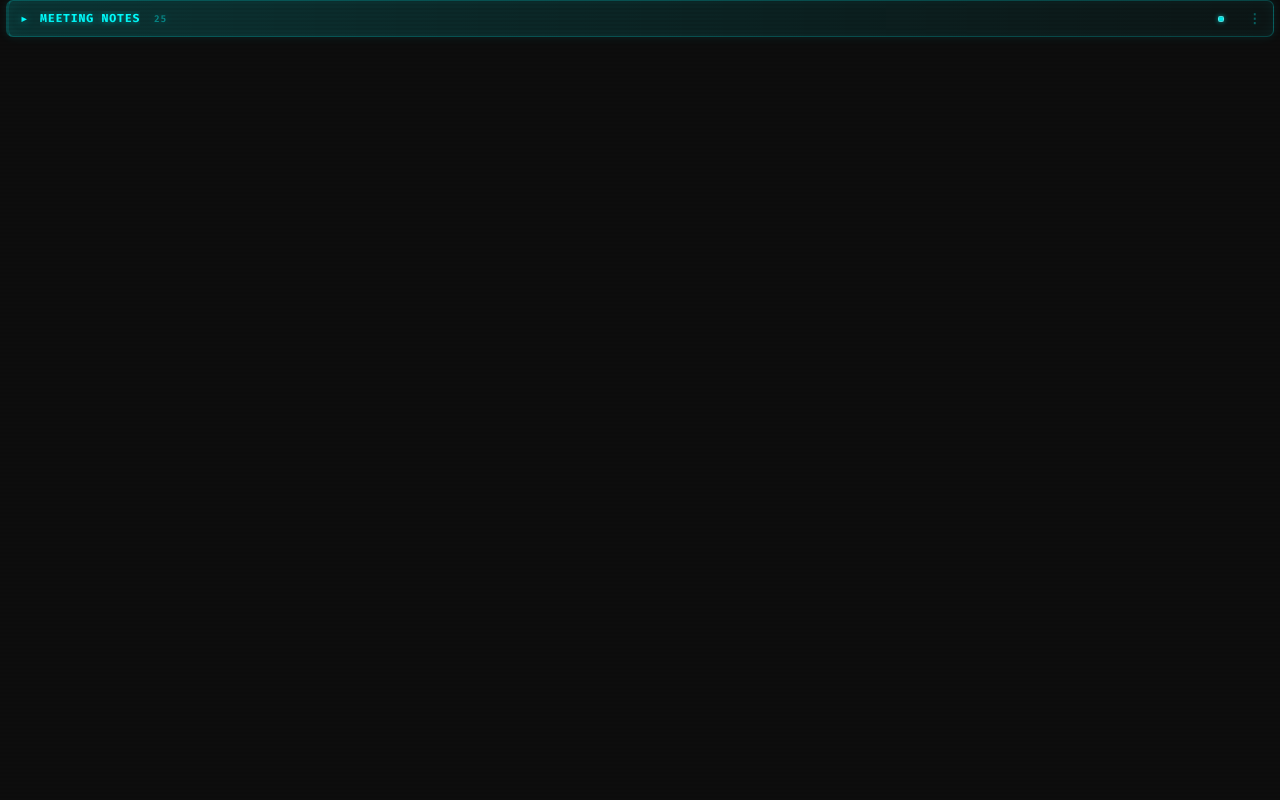
Test: KnowledgeTree pagination › shows first 20 files then Show more when folder has 25 files
The width and height of the screenshot is (1280, 800).
Later steps or results of the test are not shown.
// Expand the source card first
Step 1. Click the text "Meeting Notes" → [90, 18], box [40,11,140,26]
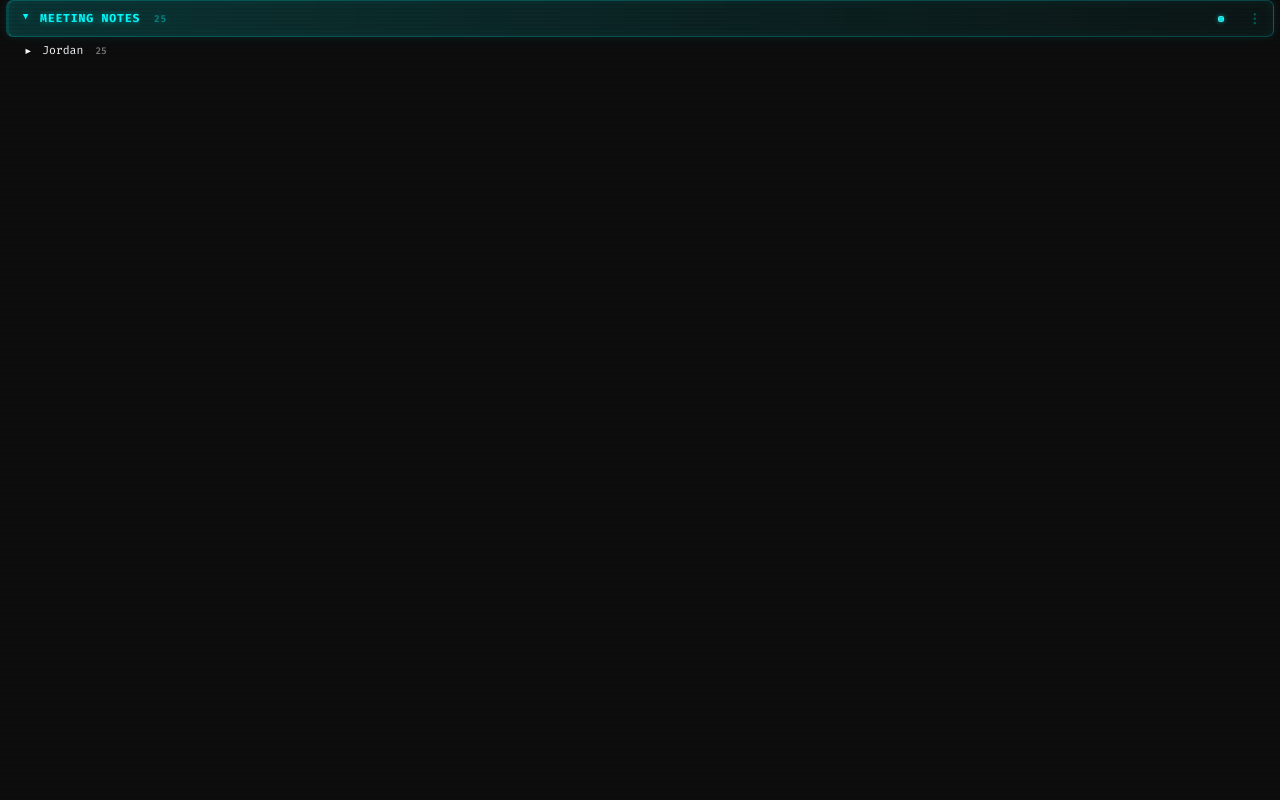
// Expand the Jordan subfolder
Step 2. Click the text "Jordan" → [63, 50], box [42,43,83,58]
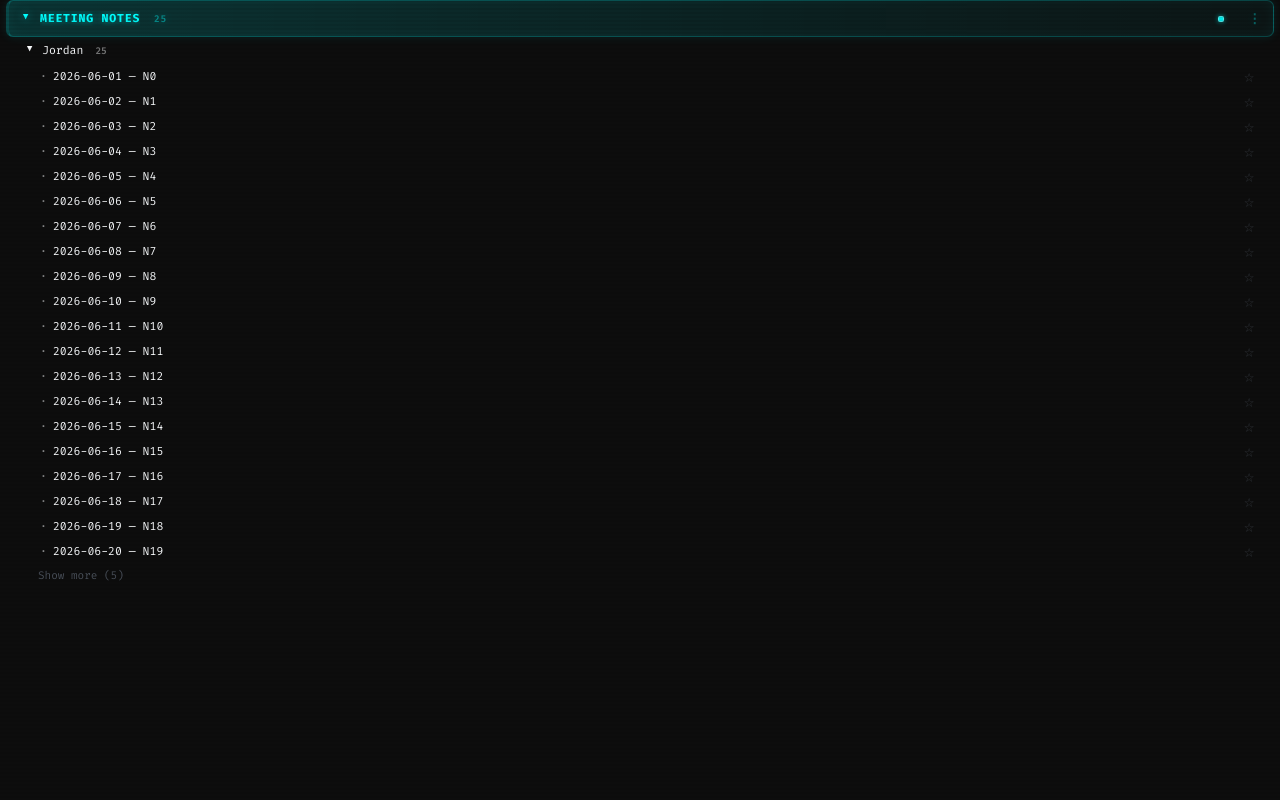
Check: the text "2026-06-01 — N0" is shown 20 times
